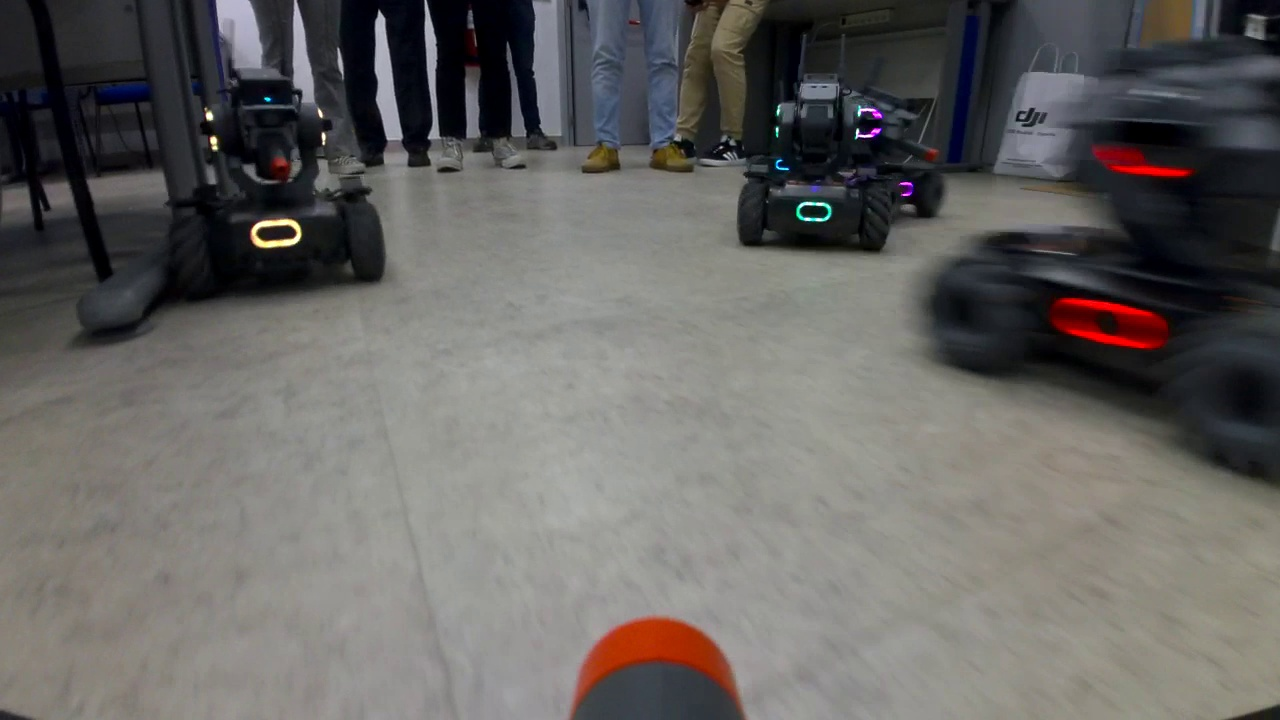robot: (926, 36, 1277, 500), (165, 70, 389, 309), (734, 74, 892, 254), (869, 90, 947, 223)
